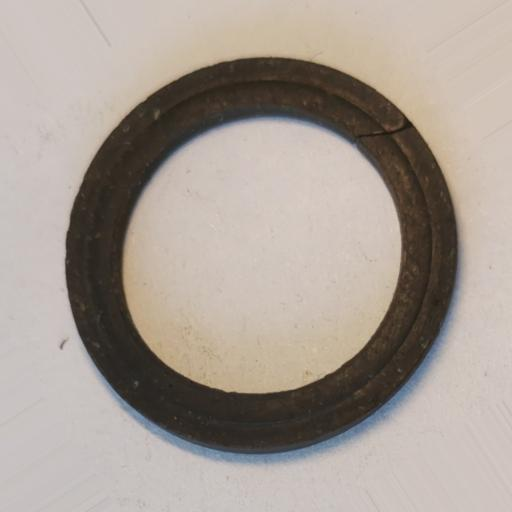defect: (352, 118, 415, 142)
